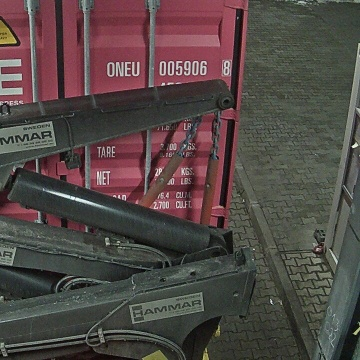serial_id: (107, 61, 230, 76)
